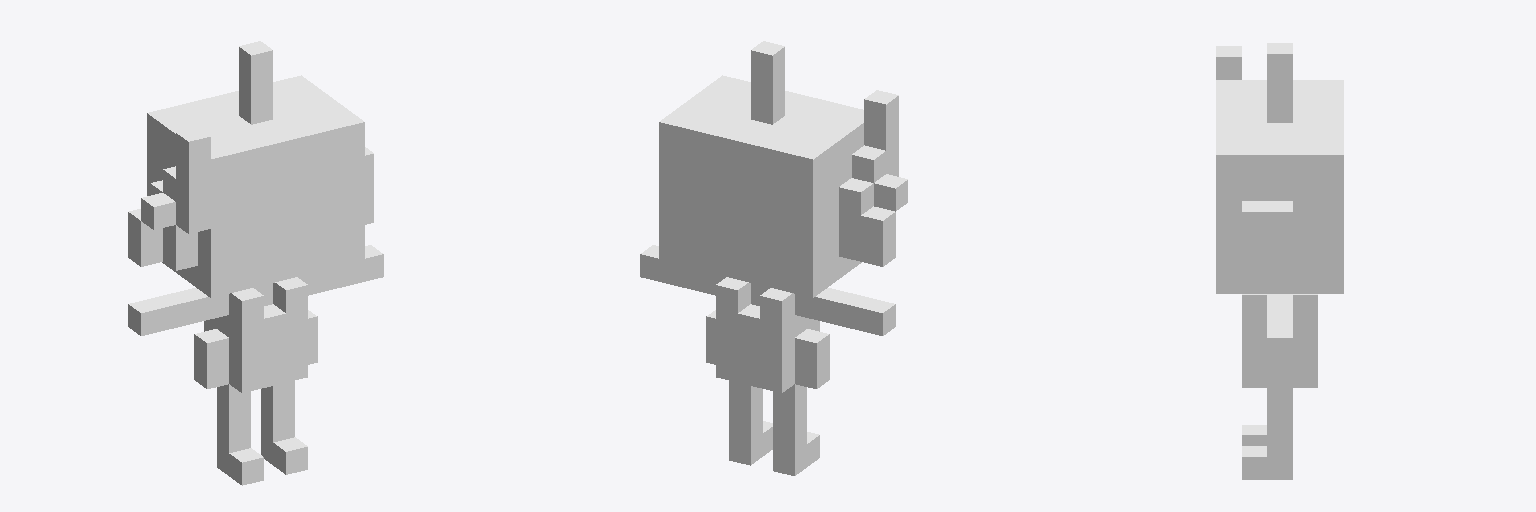
File: robo_kari3.obj
The picture shows the model from 3 angles: view 1: azimuth 30°, elevation 25°; view 2: azimuth 150°, elevation 25°; view 3: azimuth 270°, elevation 25°; orthographic projection.
Parts seen in each view (by area): view 1: object 1; view 2: object 1; view 3: object 1.
Boxes of the visible parts, <box> form: object 1: <box>128,41,383,485</box>; object 1: <box>640,41,907,475</box>; object 1: <box>1216,43,1343,479</box>.
Size of the model in its own units: 1.1 by 1.8 by 0.5.